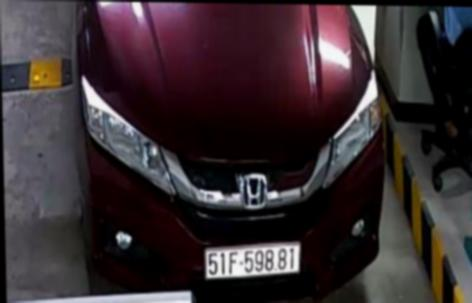License_Plate: (201, 236, 303, 280)
